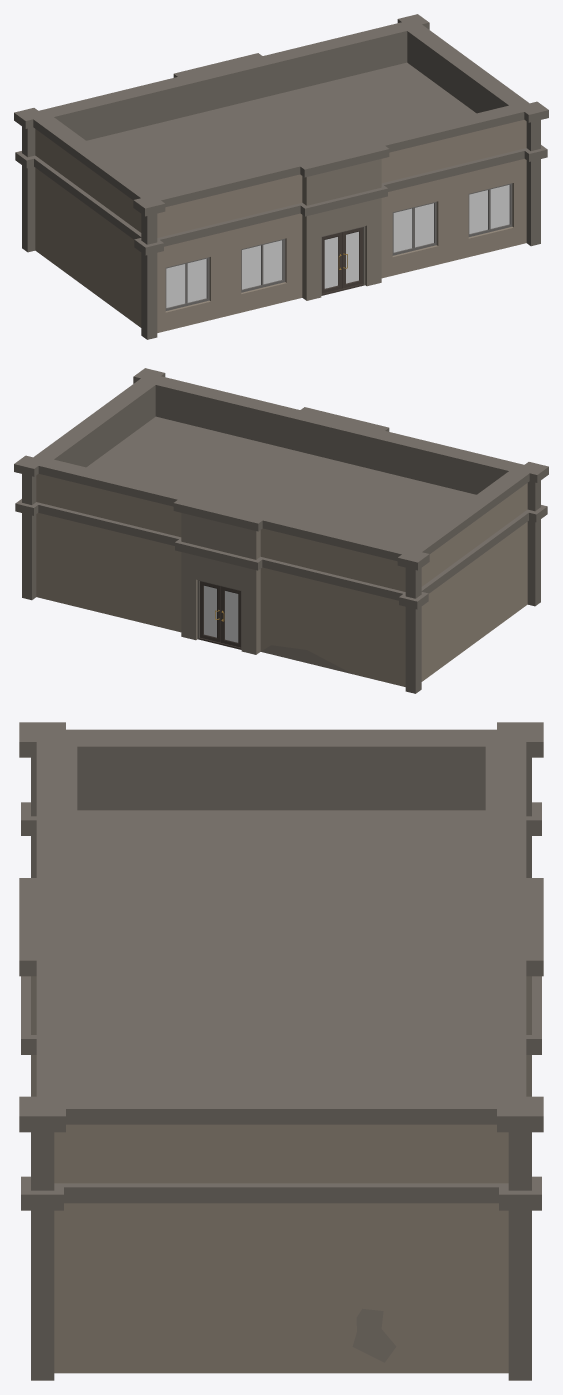
Rendered from SM_Bldg_City_General_03.fbx.
3 renders of one model, top to bottom at view 1: azimuth 30°, elevation 25°; view 2: azimuth 150°, elevation 25°; view 3: azimuth 270°, elevation 25°, orthographic. The views are drawn at different scales.
Visible parts, largest first — view 1: SM_Bldg_City_General_03, SM_Bldg_City_General_03_Glass; view 2: SM_Bldg_City_General_03; view 3: SM_Bldg_City_General_03.
Part boxes in pixels (bbox=[...]): SM_Bldg_City_General_03: bbox=[14, 14, 548, 339]; SM_Bldg_City_General_03_Glass: bbox=[166, 185, 509, 307]; SM_Bldg_City_General_03: bbox=[14, 368, 548, 693]; SM_Bldg_City_General_03: bbox=[19, 722, 543, 1380].
Bounding box in the file's own units: 1600 × 510 × 900.
